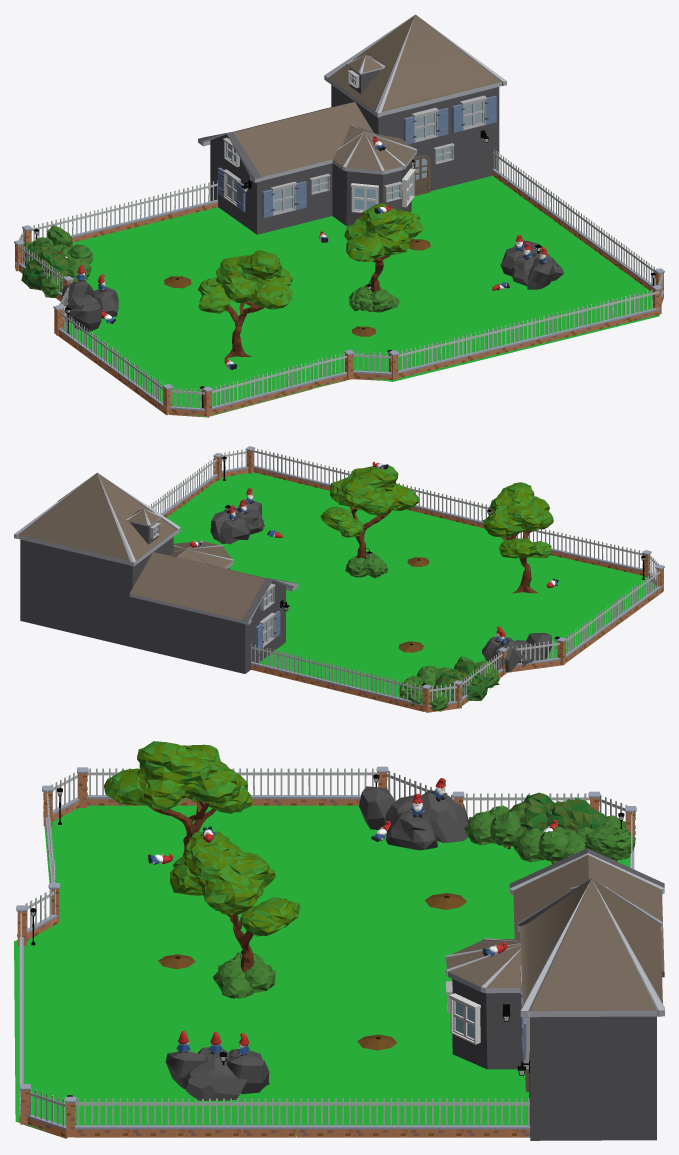
The model's file is Level_Easy_Medium_grass_mesh.fbx.
3 renders of one model, top to bottom at view 1: azimuth 30°, elevation 25°; view 2: azimuth 150°, elevation 25°; view 3: azimuth 270°, elevation 25°, orthographic. The views are drawn at different scales.
Visible parts, largest first — view 1: Grass_mesh, House_Medium, Plane.001, TreeBase.002, TreeBase.001, UlgyBush.001, Fence_middle.014, Fence_middle.016, Fence_middle.015, Fence_middle.017, medium_Rock_2.001, Fence_middle.012 (+12 smaller); view 2: Plane.001, House_Medium, Grass_mesh, TreeBase.001, TreeBase.002, UlgyBush.003, UlgyBush.001, medium_Rock_3.003, medium_Rock_1.004, Fence_middle.043, Fence_middle.045, Fence_middle.044 (+19 smaller); view 3: Plane.001, House_Medium, Grass_mesh, TreeBase.002, TreeBase.001, medium_Rock_1.005, medium_Rock_1.004, medium_Rock_3.002, Fence_middle.034, Fence_middle.027, UlgyBush.003, Fence_middle.030 (+21 smaller).
Boxes of the visible parts, x1=… form: Grass_mesh: x1=89, y1=186, x2=633, y2=404; House_Medium: x1=198, y1=14, x2=506, y2=234; Plane.001: x1=19, y1=175, x2=661, y2=416; TreeBase.002: x1=197, y1=250, x2=292, y2=358; TreeBase.001: x1=344, y1=203, x2=422, y2=291; UlgyBush.001: x1=21, y1=250, x2=69, y2=290; Fence_middle.014: x1=352, y1=351, x2=394, y2=380; Fence_middle.016: x1=277, y1=362, x2=313, y2=397; Fence_middle.015: x1=244, y1=371, x2=278, y2=406; Fence_middle.017: x1=311, y1=353, x2=347, y2=388; medium_Rock_2.001: x1=70, y1=304, x2=101, y2=331; Fence_middle.012: x1=169, y1=387, x2=209, y2=417; Plane.001: x1=167, y1=472, x2=656, y2=705; House_Medium: x1=14, y1=472, x2=298, y2=673; Grass_mesh: x1=175, y1=484, x2=624, y2=691; TreeBase.001: x1=320, y1=465, x2=419, y2=558; TreeBase.002: x1=482, y1=482, x2=553, y2=593; UlgyBush.003: x1=433, y1=669, x2=475, y2=701; UlgyBush.001: x1=453, y1=661, x2=487, y2=700; medium_Rock_3.003: x1=219, y1=517, x2=249, y2=544; medium_Rock_1.004: x1=488, y1=637, x2=523, y2=672; Fence_middle.043: x1=361, y1=671, x2=393, y2=704; Fence_middle.045: x1=299, y1=656, x2=331, y2=688; Fence_middle.044: x1=330, y1=664, x2=362, y2=696; Plane.001: x1=14, y1=805, x2=630, y2=1135; House_Medium: x1=445, y1=848, x2=664, y2=1140; Grass_mesh: x1=38, y1=814, x2=532, y2=1126; TreeBase.002: x1=104, y1=741, x2=252, y2=855; TreeBase.001: x1=170, y1=831, x2=300, y2=972; medium_Rock_1.005: x1=184, y1=1057, x2=246, y2=1100; medium_Rock_1.004: x1=421, y1=790, x2=468, y2=842; medium_Rock_3.002: x1=385, y1=811, x2=437, y2=850; Fence_middle.034: x1=463, y1=1098, x2=518, y2=1137; Fence_middle.027: x1=74, y1=1098, x2=129, y2=1137; UlgyBush.003: x1=546, y1=797, x2=606, y2=831; Fence_middle.030: x1=240, y1=1098, x2=296, y2=1137.
Size of the model in its own units: 10404 by 3313 by 8447.
